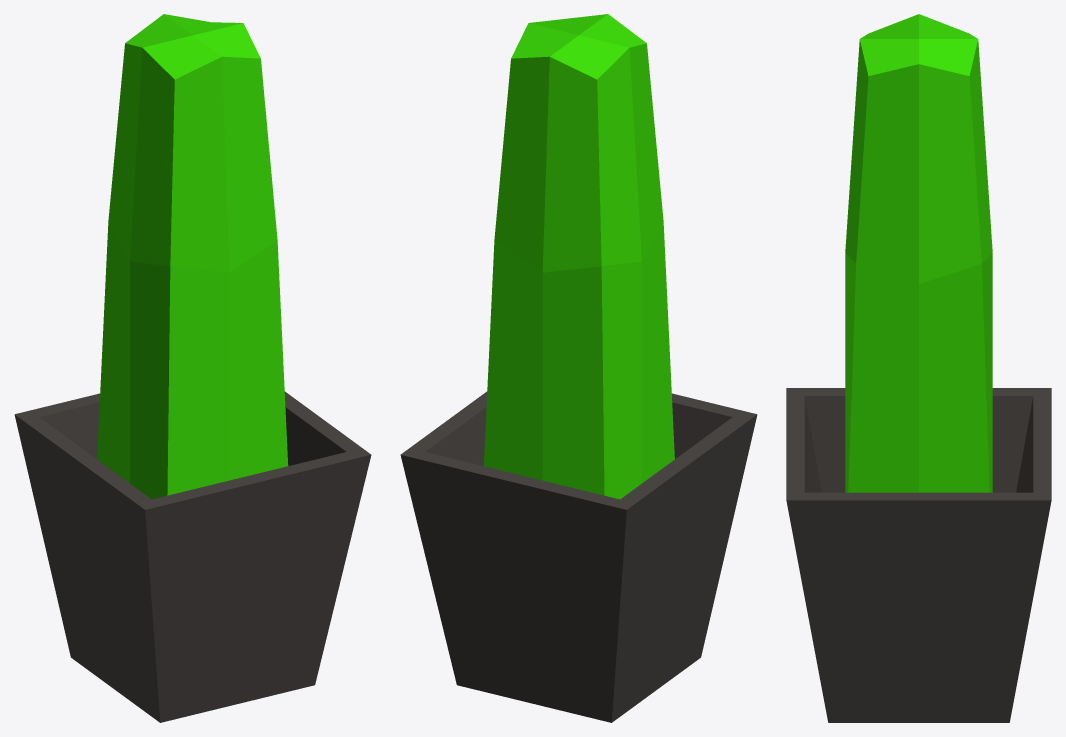
File: Stone_topfpflanze.fbx
3 renders of one model, left to right at view 1: azimuth 30°, elevation 25°; view 2: azimuth 150°, elevation 25°; view 3: azimuth 270°, elevation 25°, orthographic.
Parts seen in each view (by area): view 1: Stone_Topfpflanze; view 2: Stone_Topfpflanze; view 3: Stone_Topfpflanze.
Boxes of the visible parts, x1,y1,x2,y2 form: Stone_Topfpflanze: [14, 14, 371, 722]; Stone_Topfpflanze: [400, 14, 757, 722]; Stone_Topfpflanze: [786, 14, 1051, 722].
Bounding box in the file's own units: 104 × 279 × 104.
